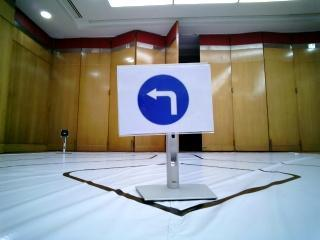left: (123, 69, 204, 129)
